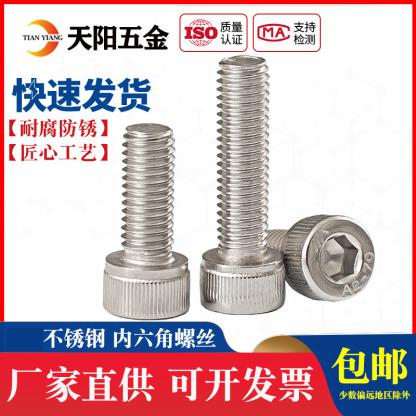FOD: (199, 51, 285, 314), (99, 122, 193, 319), (263, 210, 377, 304)
